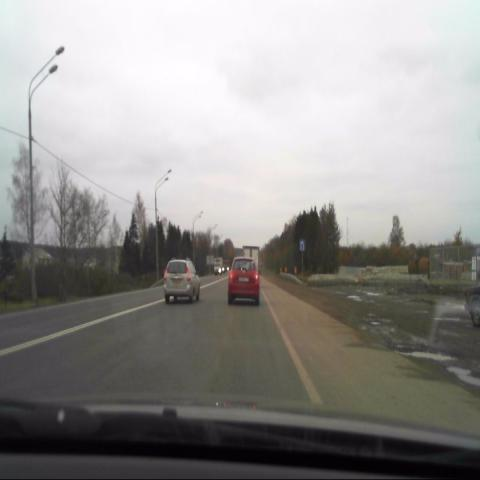5_15_5: (299, 238, 304, 250)
